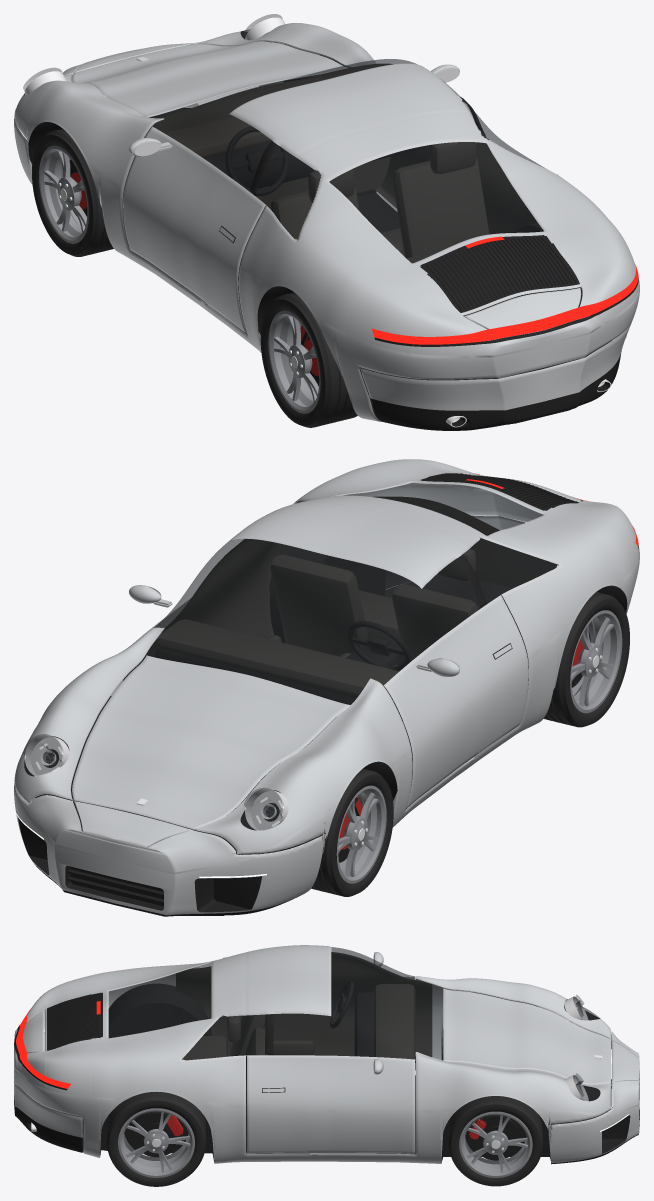
File: car.glb
3 renders of one model, top to bottom at view 1: azimuth 30°, elevation 25°; view 2: azimuth 150°, elevation 25°; view 3: azimuth 270°, elevation 25°, orthographic. The views are drawn at different scales.
Parts seen in each view (by area): view 1: body, glass, interior, door_l, bumper_rear, hood, wheel_rl, wheel_fl, lights_rear, spoiler, lights_front, bumper_front; view 2: body, glass, interior, hood, bumper_front, door_l, wheel_rl, wheel_fl, lights_front, bumper_rear; view 3: body, glass, door_r, interior, hood, wheel_rr, wheel_fr, bumper_front, bumper_rear, lights_front, brake_rr, brake_fr (+2 smaller).
Part boxes in pixels (left/top/right/bottom): body: left=14, top=23, right=639, bottom=430; glass: left=149, top=59, right=557, bottom=262; interior: left=122, top=63, right=537, bottom=324; door_l: left=123, top=126, right=265, bottom=334; bumper_rear: left=360, top=322, right=631, bottom=430; hood: left=72, top=41, right=347, bottom=117; wheel_rl: left=260, top=292, right=357, bottom=427; wheel_fl: left=32, top=128, right=113, bottom=256; lights_rear: left=371, top=236, right=638, bottom=346; spoiler: left=464, top=288, right=581, bottom=329; lights_front: left=23, top=14, right=285, bottom=95; bumper_front: left=14, top=41, right=283, bottom=184; body: left=14, top=459, right=639, bottom=854; glass: left=147, top=483, right=558, bottom=703; interior: left=122, top=496, right=556, bottom=748; hood: left=72, top=655, right=350, bottom=829; bumper_front: left=14, top=783, right=325, bottom=916; door_l: left=384, top=595, right=528, bottom=808; wheel_rl: left=543, top=592, right=629, bottom=727; wheel_fl: left=311, top=768, right=393, bottom=896; lights_front: left=16, top=734, right=288, bottom=903; bumper_rear: left=385, top=515, right=558, bottom=589; body: left=14, top=945, right=639, bottom=1163; glass: left=109, top=947, right=442, bottom=1059; door_r: left=246, top=1055, right=415, bottom=1153; interior: left=176, top=952, right=432, bottom=1154; hood: left=443, top=988, right=611, bottom=1084; wheel_rr: left=107, top=1091, right=205, bottom=1186; wheel_fr: left=449, top=1096, right=542, bottom=1186; bumper_front: left=548, top=1021, right=639, bottom=1164; bumper_rear: left=14, top=1032, right=82, bottom=1152; lights_front: left=564, top=995, right=628, bottom=1131; brake_rr: left=132, top=1111, right=183, bottom=1157; brake_fr: left=469, top=1115, right=520, bottom=1160.
Size of what is drawn, in the model's own units: 2.01 by 1.3 by 4.52.
